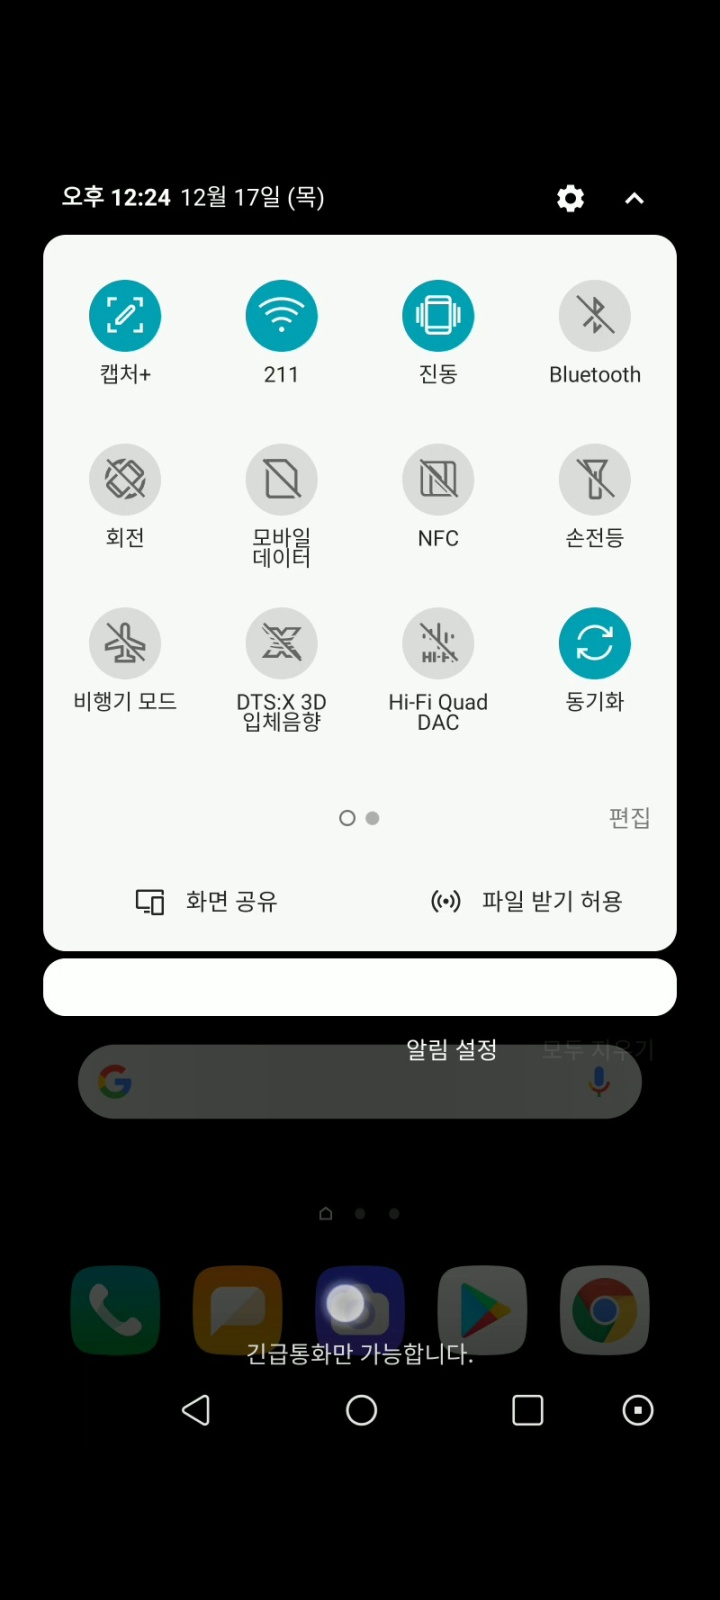Cursor: (323, 1282, 368, 1327)
